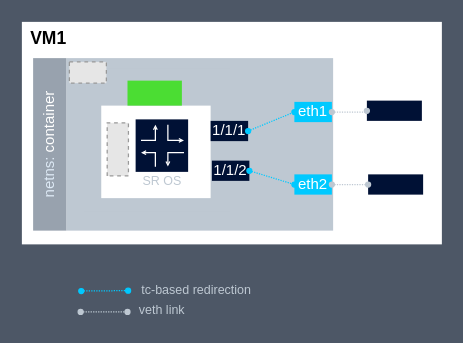
The diagram is 463 pixels wide and 343 high, and some of its shapes have lost their labels. Grey dashed boxes stand in for pictures. The shapes that lost their labels are listed below. From the top down, each one's centre as x and y in pixels, then its label:
At (154,92): "mgmt".
At (393,110): "sr-eth1".
At (395,184): "sr-eth2".
